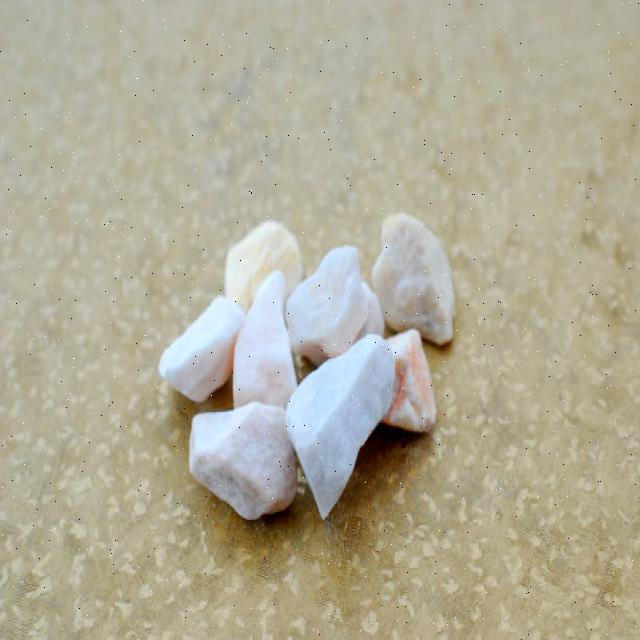Sedimentary: (163, 190, 460, 506)
